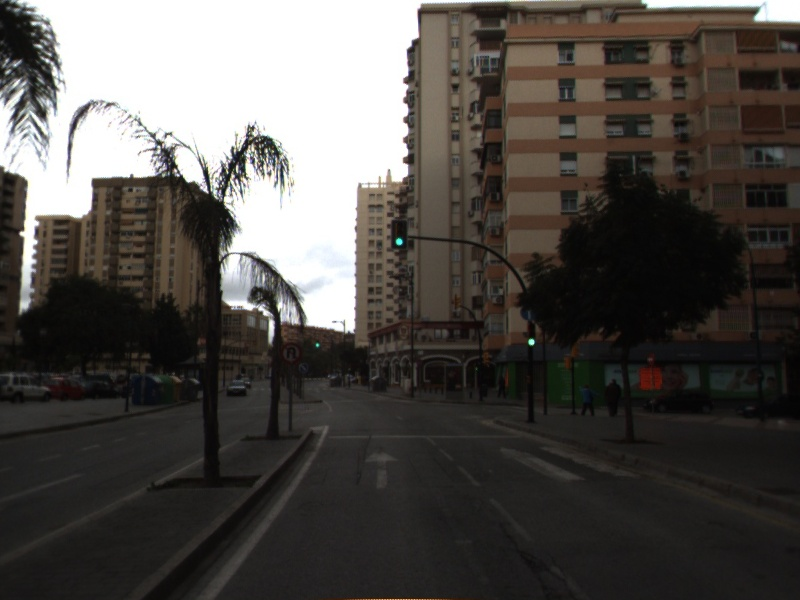STRAIGHT: (362, 445, 403, 492)
